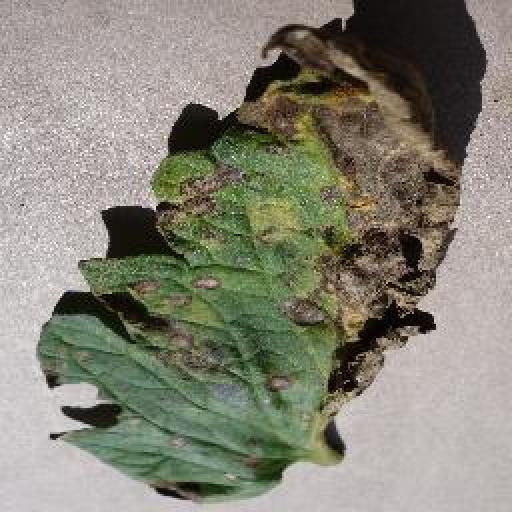Early Blight: (38, 13, 468, 500)
